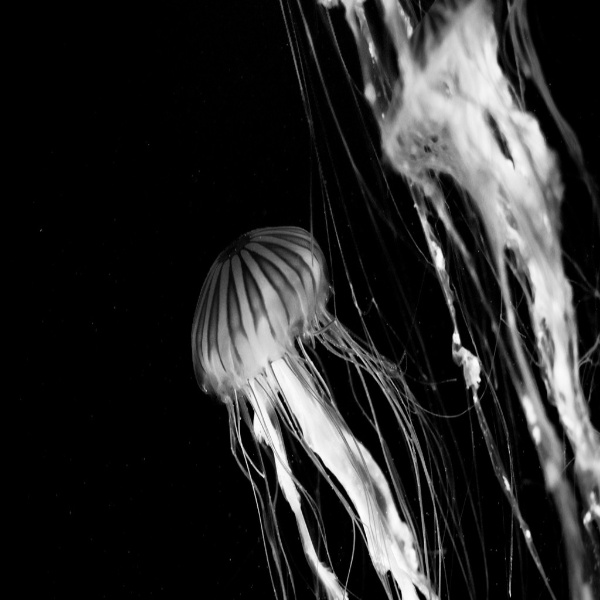Jellyfish: (275, 0, 599, 599), (188, 224, 449, 599)
